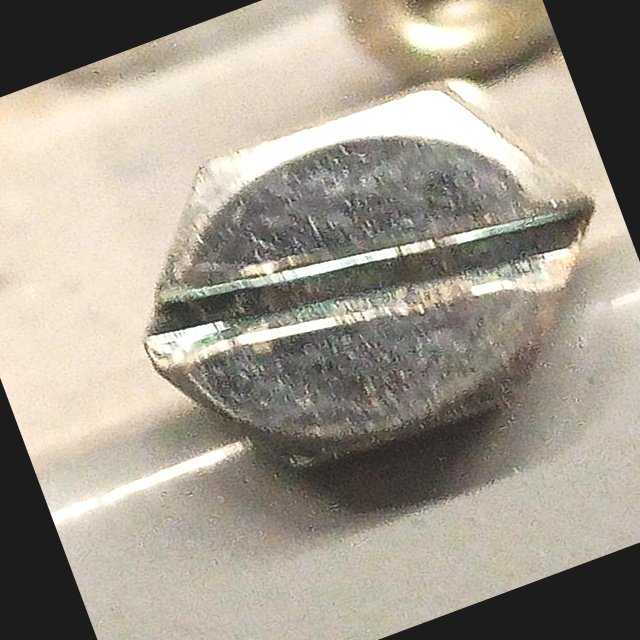duz: (86, 37, 640, 522)
